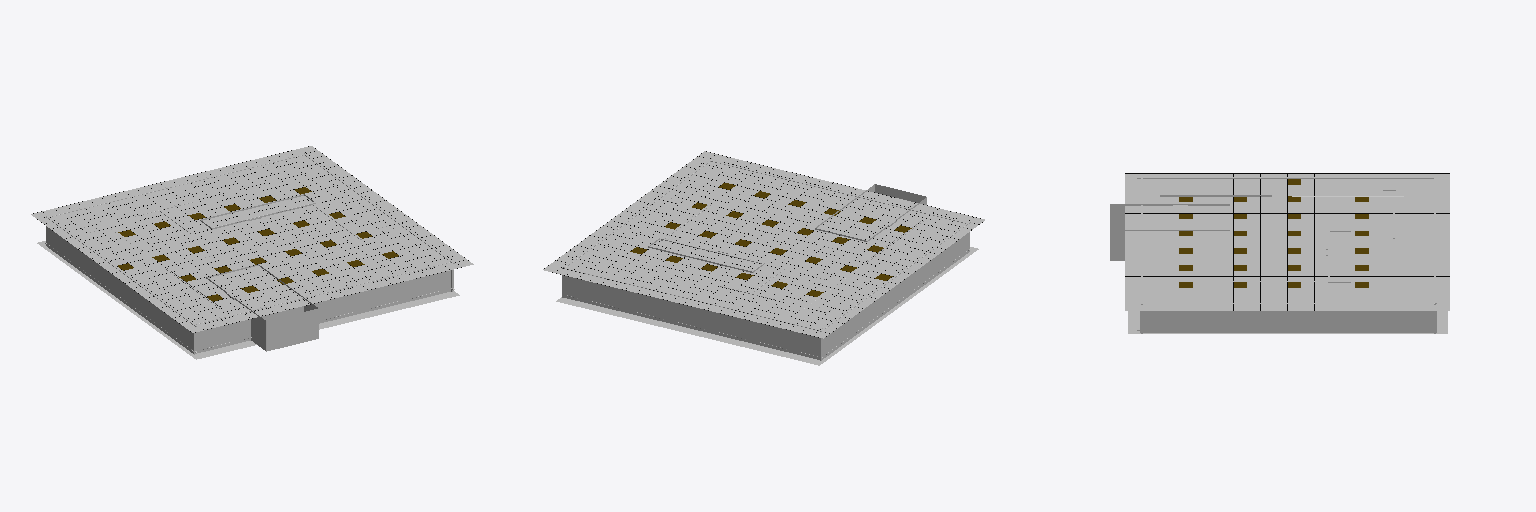
File: vent.obj
The picture shows the model from 3 angles: view 1: azimuth 30°, elevation 25°; view 2: azimuth 150°, elevation 25°; view 3: azimuth 270°, elevation 25°; orthographic projection.
Visible parts, largest first — view 1: Ceiling, BackWall_Double_BR.028, Air_Vent.005, Piece1, Carpet_v1.001; view 2: Ceiling, BackWall_Double_BR.028, Air_Vent.005, Carpet_v1.001, Piece1; view 3: Ceiling, BackWall_Double_BR.028, Air_Vent.005, Piece1, Carpet_v1.001.
Part boxes in pixels (x1,y1,x2,y2): Ceiling: (31,146,473,332); BackWall_Double_BR.028: (45,153,454,354); Air_Vent.005: (33,146,468,332); Piece1: (206,264,318,351); Carpet_v1.001: (37,241,459,359); Ceiling: (543,151,984,338); BackWall_Double_BR.028: (562,158,970,360); Air_Vent.005: (544,151,982,337); Carpet_v1.001: (556,247,978,365); Piece1: (815,184,926,241); Ceiling: (1125,174,1449,310); BackWall_Double_BR.028: (1137,177,1436,333); Air_Vent.005: (1125,173,1449,310); Piece1: (1110,204,1229,260); Carpet_v1.001: (1128,311,1447,333).
Bounding box in the file's own units: 21.89 × 2.3 × 22.9.